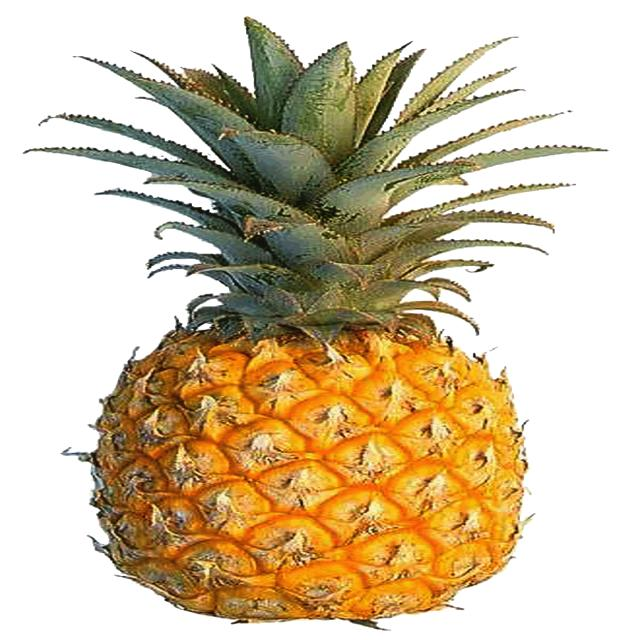pineapple: (44, 248, 553, 634)
